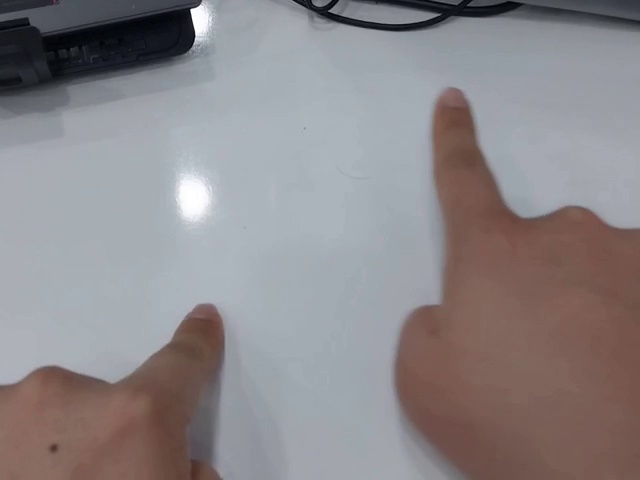fingers: (172, 303, 224, 354), (430, 86, 474, 129)
